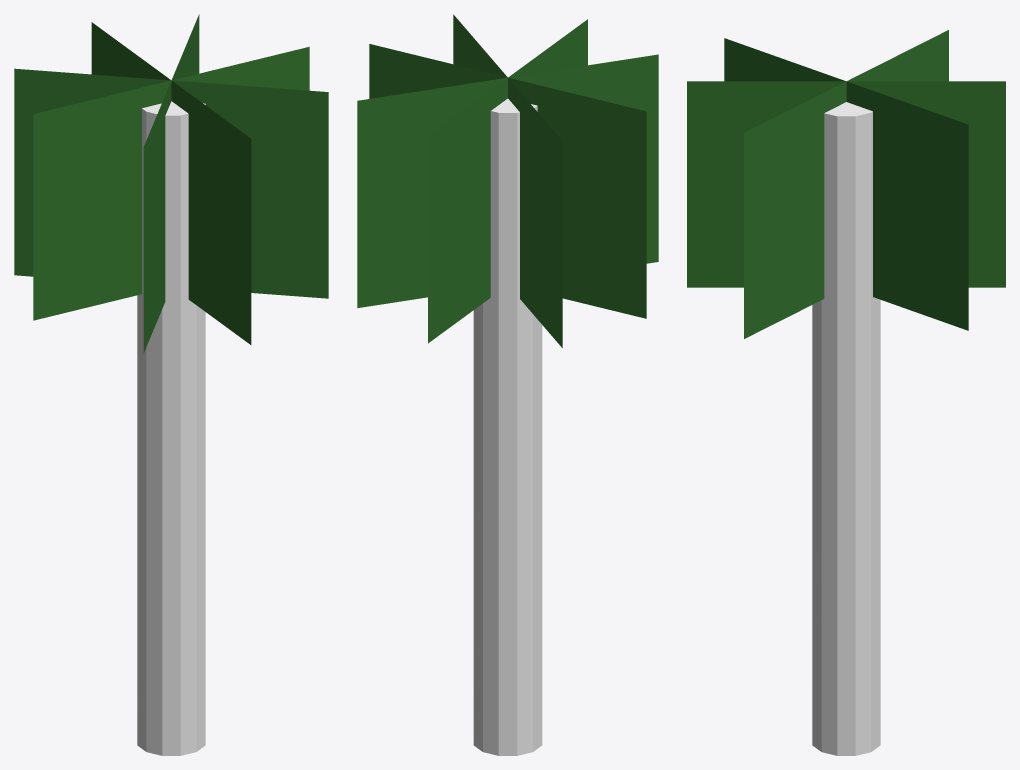
The model's file is tree.gltf.
3 renders of one model, left to right at view 1: azimuth 30°, elevation 25°; view 2: azimuth 150°, elevation 25°; view 3: azimuth 270°, elevation 25°, orthographic.
Visible parts, largest first — view 1: tree, cyl; view 2: tree, cyl; view 3: tree, cyl.
Boxes of the visible parts, left/top/right/bottom form: tree: left=14, top=14, right=328, bottom=352; cyl: left=137, top=101, right=205, bottom=755; tree: left=357, top=14, right=658, bottom=347; cyl: left=473, top=98, right=542, bottom=755; tree: left=687, top=30, right=1005, bottom=338; cyl: left=812, top=102, right=880, bottom=755.
Size of the model in its own units: 0.875 by 2 by 0.875.
Materials: 3 (2 with a texture image).
